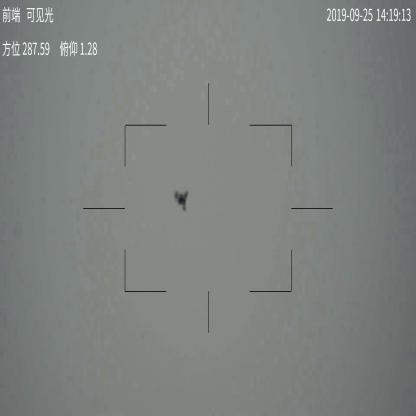uav: (173, 190, 190, 211)
